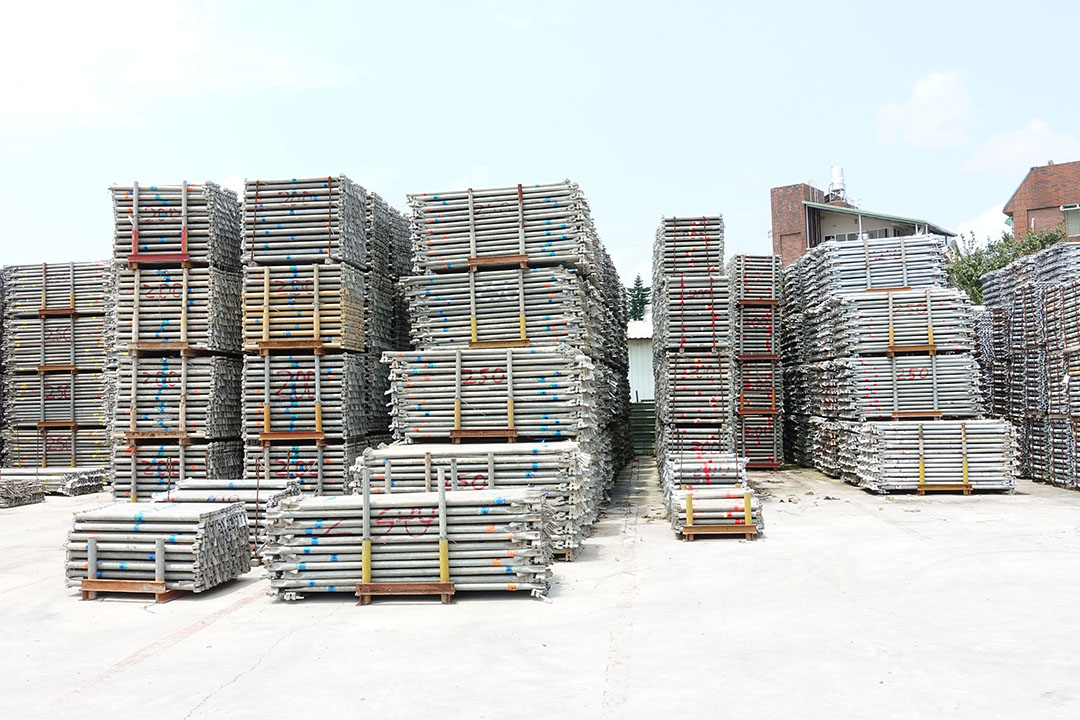building materials: (381, 350, 580, 442), (405, 178, 587, 269), (400, 272, 585, 347), (869, 422, 1019, 494), (108, 267, 217, 357), (240, 266, 350, 355), (108, 179, 215, 268), (239, 357, 347, 445), (243, 174, 343, 265), (109, 358, 211, 444), (848, 357, 984, 421), (847, 291, 973, 355), (824, 233, 948, 289), (1, 262, 104, 318), (1, 431, 111, 483), (1, 320, 105, 374), (663, 353, 735, 429), (1, 377, 103, 430), (661, 276, 732, 351), (660, 214, 725, 276), (733, 251, 781, 308), (736, 419, 786, 472), (736, 363, 783, 418), (736, 308, 781, 363)
